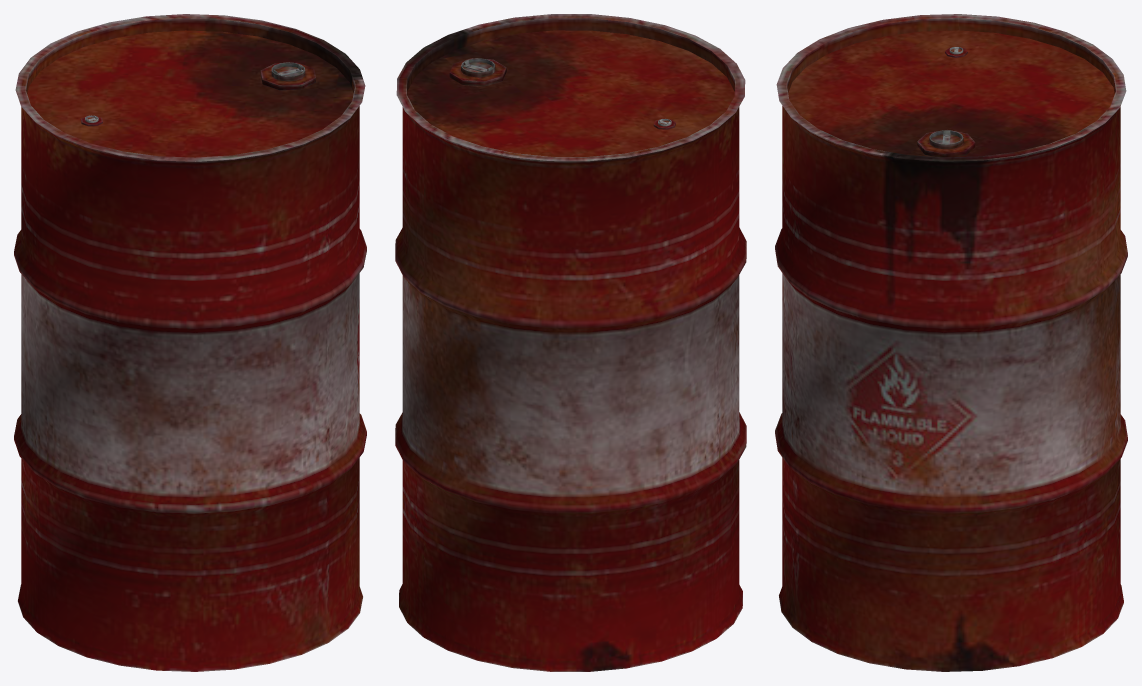
Rendered from barrel.fbx.
The picture shows the model from 3 angles, left to right: view 1: azimuth 30°, elevation 25°; view 2: azimuth 150°, elevation 25°; view 3: azimuth 270°, elevation 25°; orthographic projection.
Visible parts, largest first — view 1: barrel_oil; view 2: barrel_oil; view 3: barrel_oil.
Part boxes in pixels (bbox=[...]): barrel_oil: bbox=[14, 14, 366, 671]; barrel_oil: bbox=[395, 14, 746, 671]; barrel_oil: bbox=[775, 14, 1127, 671].
Bounding box in the file's own units: 563 × 900 × 563.
Materials: 1 (1 with a texture image).
